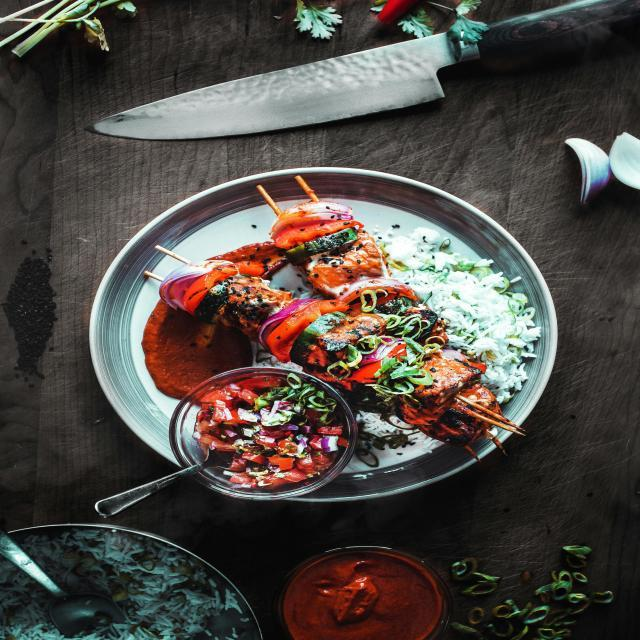Knife: (91, 0, 640, 140)
